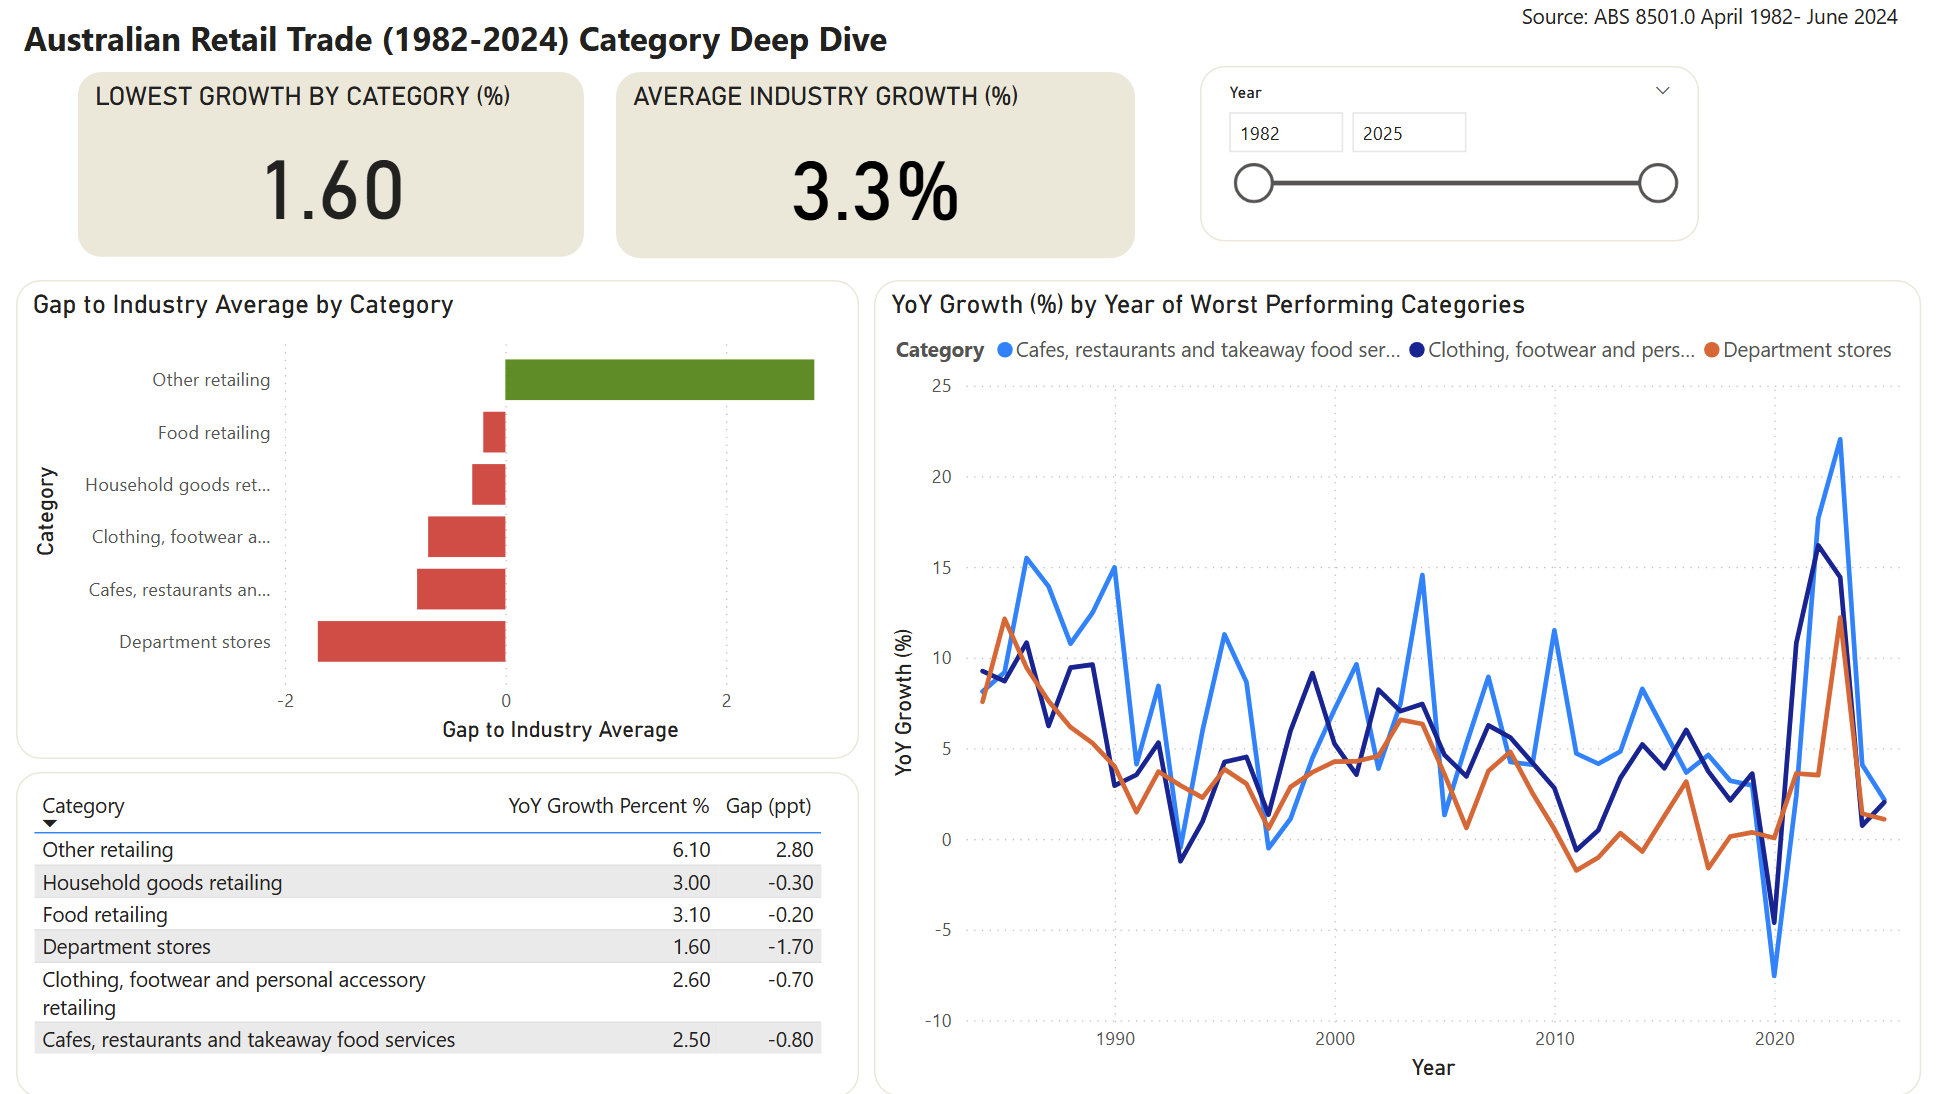

This screenshot's page, from the dashboard's own definition file:
{"tool":"powerbi","page":{"name":"Underperformer Focus","canvas":[1280,720],"ordinal":2},"visuals":[{"type":"card","title":"LOWEST GROWTH BY CATEGORY (%)","fields":{"Values":["retail_yoy_growth.Worst Category"]},"box":[59.2,55,328.5,119.8],"z":0},{"type":"card","title":"AVERAGE INDUSTRY GROWTH (%)","fields":{"Values":["retail_yoy_growth.Benchmark Display"]},"box":[408.8,55,336.9,121.2],"z":2000},{"type":"clusteredBarChart","fields":{"Category":["retail_category_ranking.category"],"Y":["Avg(retail_category_ranking.gap_vs_national_ppt)"]},"box":[20,190,547.7,310.8],"z":3000},{"type":"lineChart","title":"YoY Growth (%) by Year of Worst Performing Categories","fields":{"Category":["dim_date.date.Variation.Date Hierarchy.Year","dim_date.date.Variation.Date Hierarchy.Quarter","dim_date.date.Variation.Date Hierarchy.Month","dim_date.date.Variation.Date Hierarchy.Day"],"Y":["Avg(retail_yoy_growth.yoy_growth_pct)"],"Series":["retail_yoy_growth.category"]},"box":[576.7,190,680,530],"z":4000},{"type":"tableEx","fields":{"Values":["retail_category_ranking.category","retail_category_ranking.yoy_growth_pct","retail_category_ranking.gap_vs_national_ppt"]},"box":[20,508.5,547.7,211.5],"z":5000},{"type":"slicer","fields":{"Values":["dim_date.year"]},"box":[788,50,324,114],"z":6000},{"type":"textbox","box":[991.7,3.3,280,41.7],"z":7000},{"type":"textbox","box":[20,12.5,583.8,41.2],"z":8000}]}

Visuals, with their boxes in screenshot pixels (x1, y1, x2, y2), scaled from the page's 1280x720 canvas onto the 1954x1094 screenshot:
"LOWEST GROWTH BY CATEGORY (%)" card: [x1=90, y1=84, x2=592, y2=266]
"AVERAGE INDUSTRY GROWTH (%)" card: [x1=624, y1=84, x2=1138, y2=268]
clusteredBarChart - retail_category_ranking.category x Avg(retail_category_ranking.gap_vs_national_ppt): [x1=31, y1=289, x2=867, y2=761]
"YoY Growth (%) by Year of Worst Performing Categories" lineChart: [x1=880, y1=289, x2=1918, y2=1093]
tableEx - retail_category_ranking.category x retail_category_ranking.yoy_growth_pct: [x1=31, y1=773, x2=867, y2=1093]
slicer - dim_date.year: [x1=1203, y1=76, x2=1698, y2=249]
textbox: [x1=1514, y1=5, x2=1941, y2=68]
textbox: [x1=31, y1=19, x2=922, y2=82]
